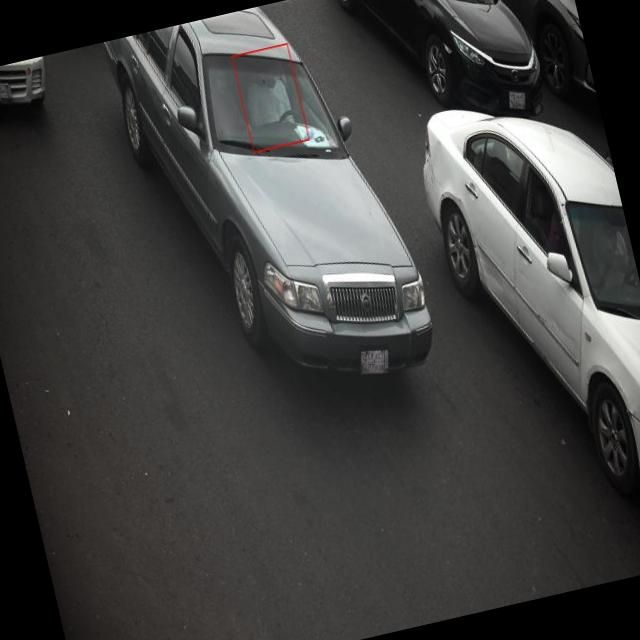person_without_seatbelt: (237, 49, 304, 148)
